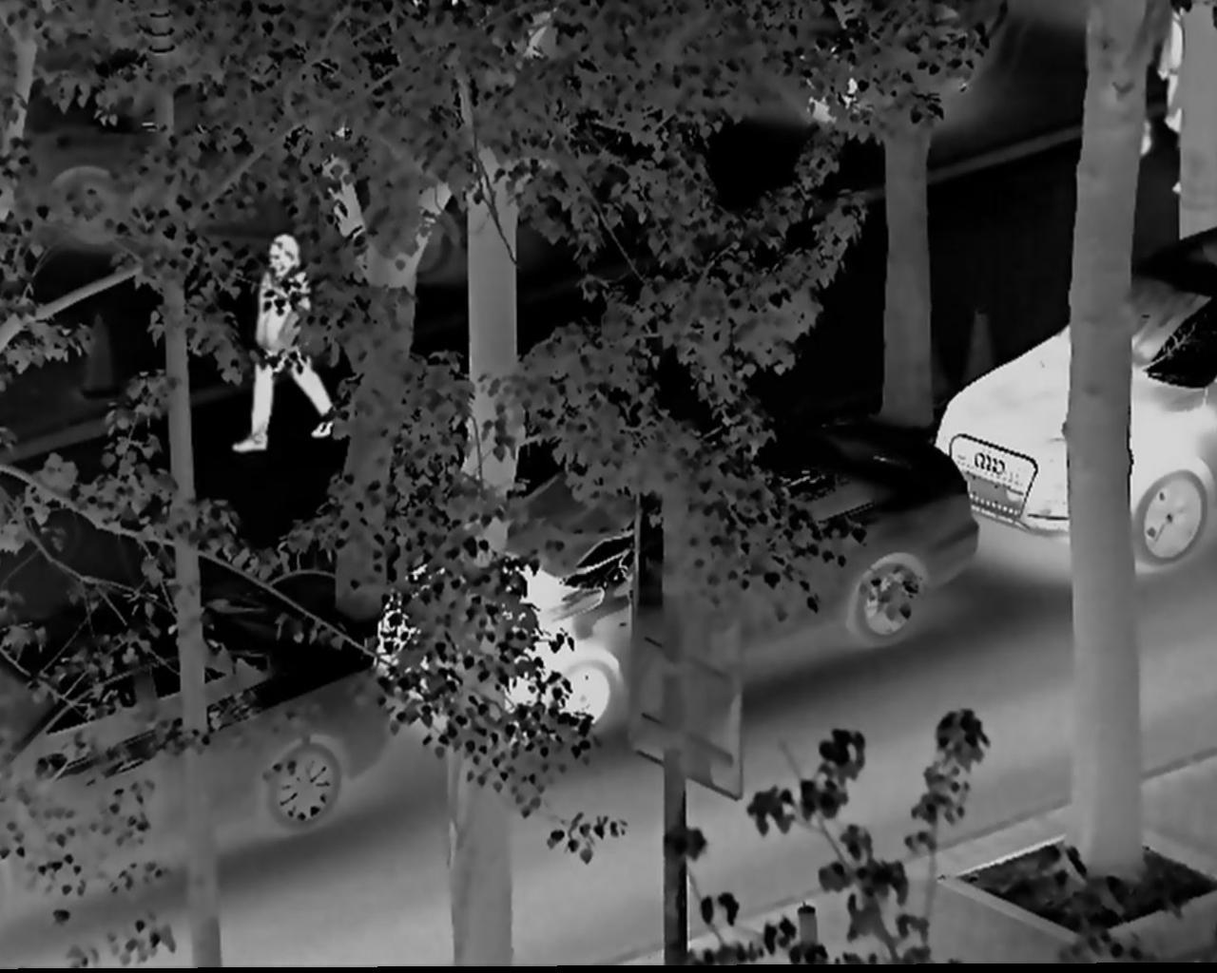person: (227, 226, 348, 468)
